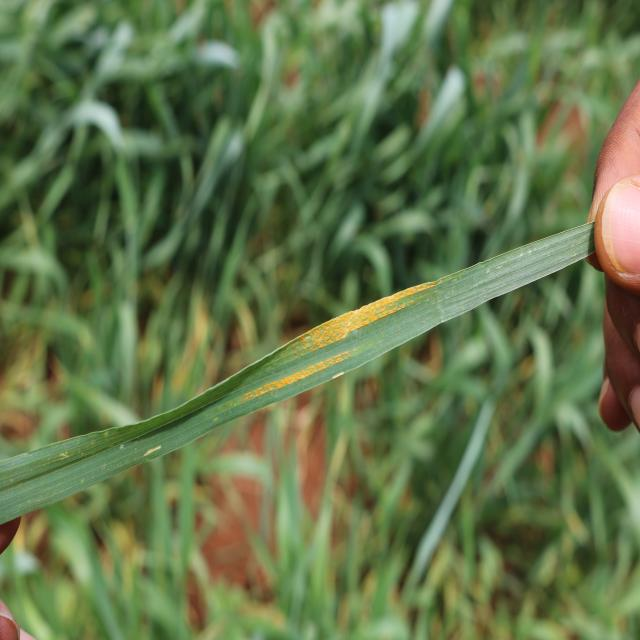Stripe Rust: (293, 276, 437, 356), (238, 352, 350, 404)
